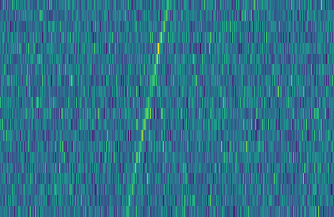signal: (122, 0, 173, 217)
